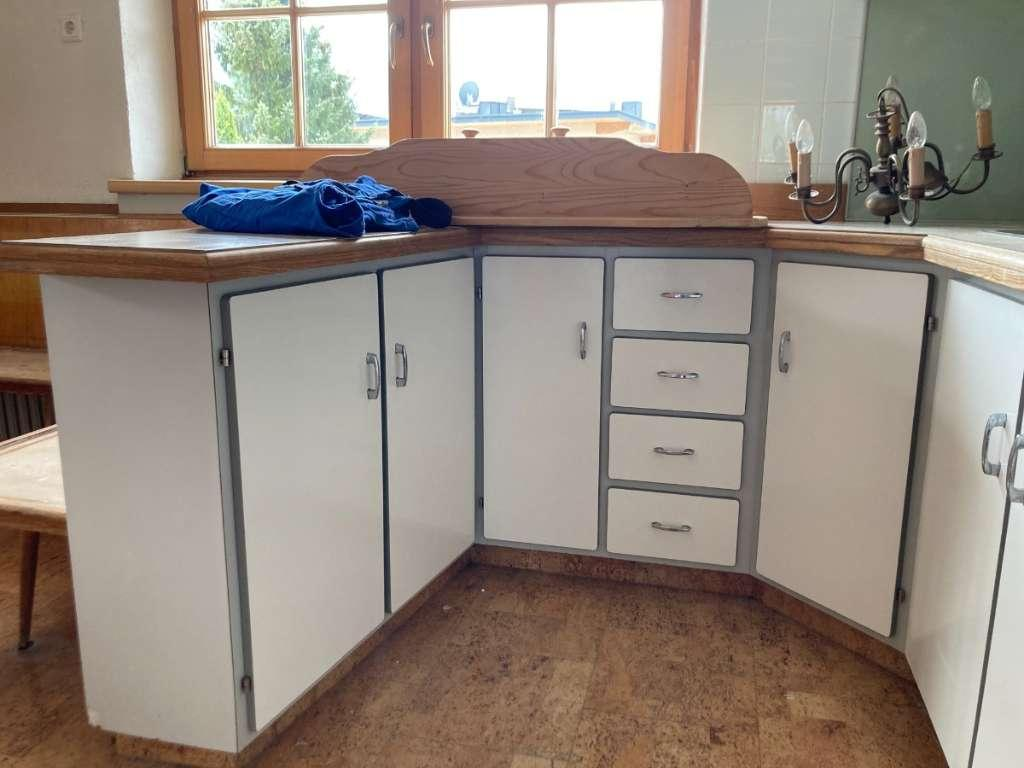cabinet_door: (230, 297, 377, 661), (760, 268, 907, 593), (919, 284, 1012, 738), (476, 262, 599, 542), (391, 276, 477, 557), (613, 261, 753, 334), (610, 341, 747, 410), (607, 419, 743, 485), (607, 495, 740, 559)
handle: (977, 412, 1012, 480), (1003, 432, 1024, 514), (359, 347, 385, 407), (389, 341, 416, 394), (773, 319, 796, 379), (570, 316, 594, 368), (651, 364, 700, 386), (646, 519, 697, 540), (651, 443, 702, 464), (656, 282, 707, 303), (422, 20, 437, 68)
